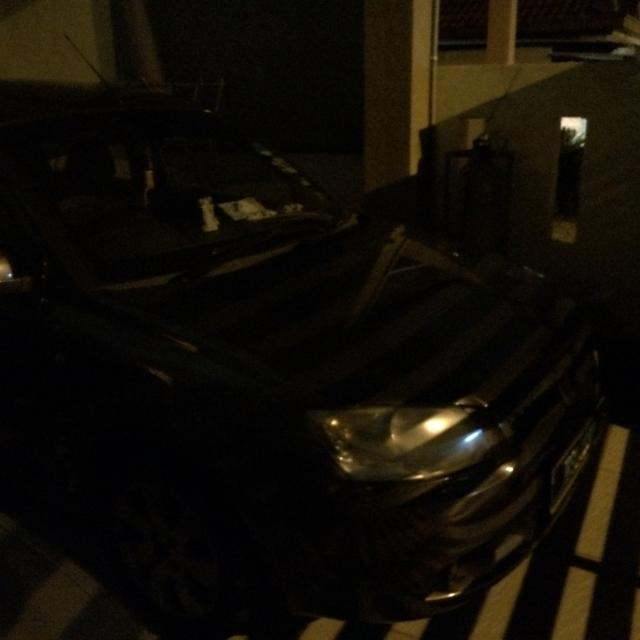Car: (3, 75, 605, 586)
